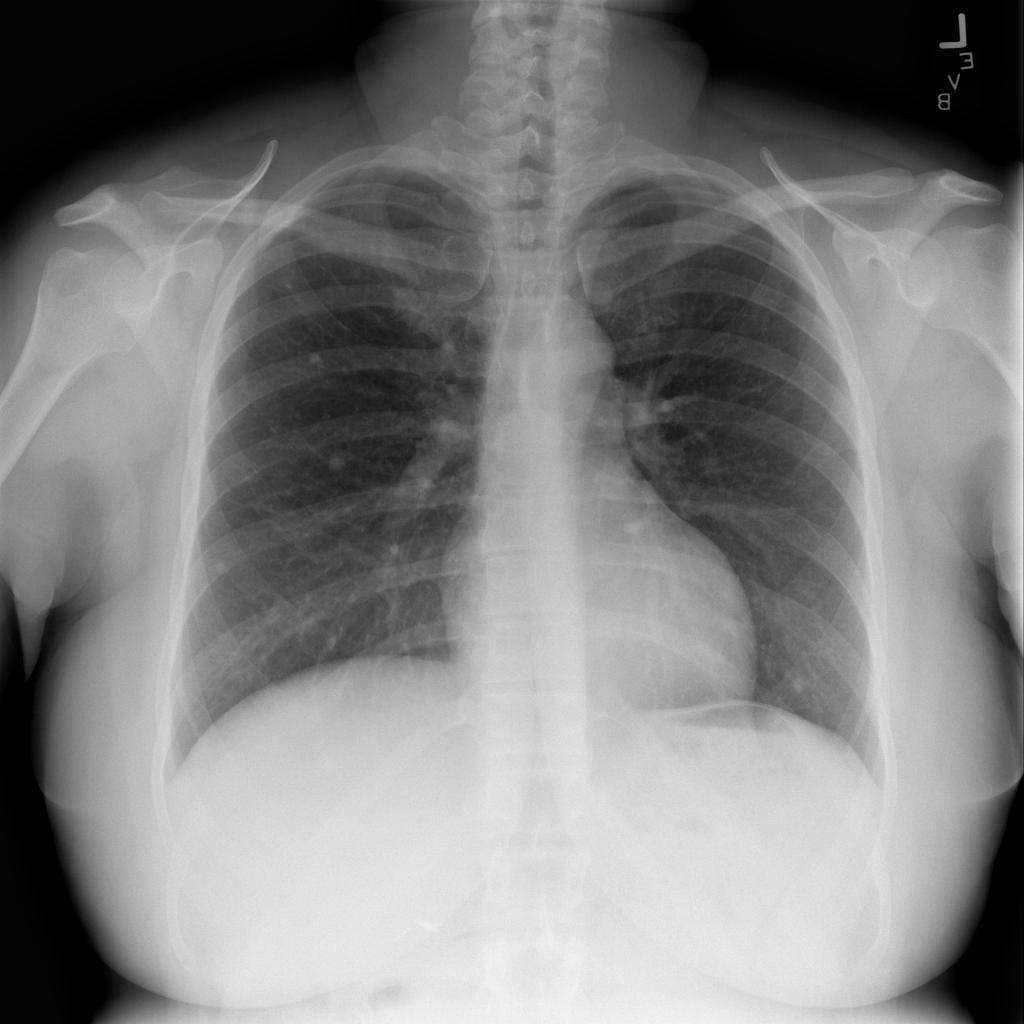nodule: (772, 656, 824, 706), (309, 438, 361, 486), (293, 340, 331, 375), (205, 552, 236, 582)
